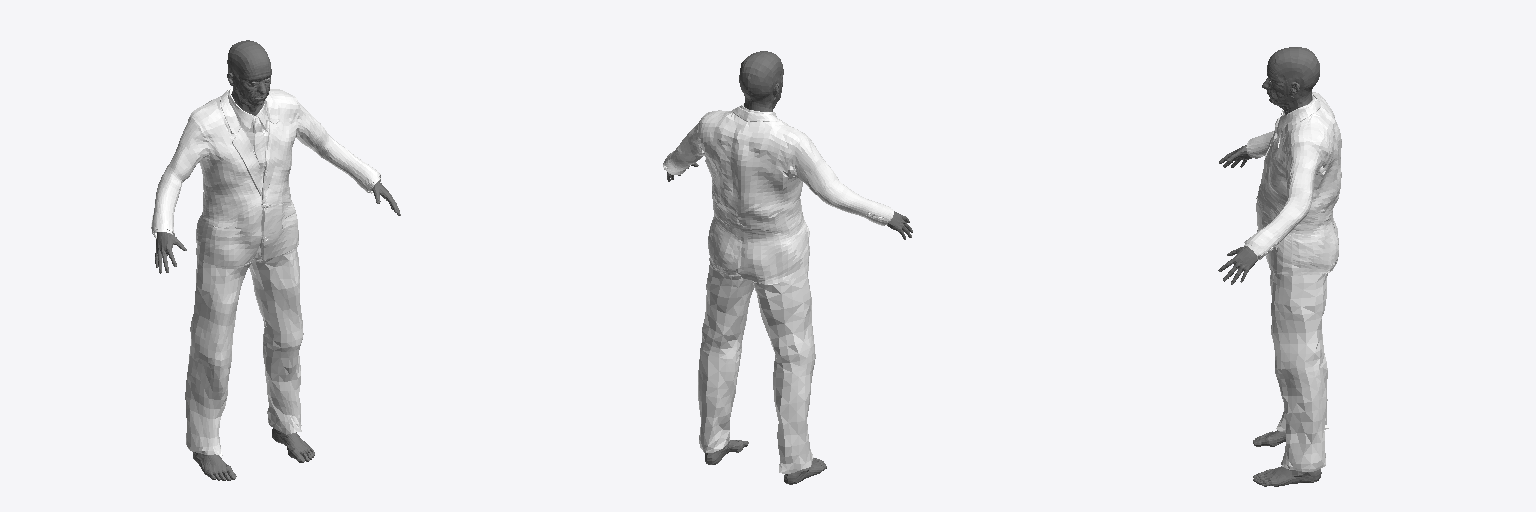
The model's file is Watcher.obj.
3 renders of one model, left to right at view 1: azimuth 30°, elevation 25°; view 2: azimuth 150°, elevation 25°; view 3: azimuth 270°, elevation 25°, orthographic.
Parts seen in each view (by area): view 1: male_elegantsuit01.obj, base.obj; view 2: male_elegantsuit01.obj, base.obj; view 3: male_elegantsuit01.obj, base.obj.
Part boxes in pixels (bbox=[...]): male_elegantsuit01.obj: bbox=[151, 88, 380, 455]; base.obj: bbox=[155, 40, 400, 480]; male_elegantsuit01.obj: bbox=[663, 104, 893, 473]; base.obj: bbox=[667, 51, 912, 484]; male_elegantsuit01.obj: bbox=[1244, 92, 1341, 471]; base.obj: bbox=[1218, 47, 1321, 486].
Bounding box in the file's own units: 1.05 × 1.72 × 0.4637.